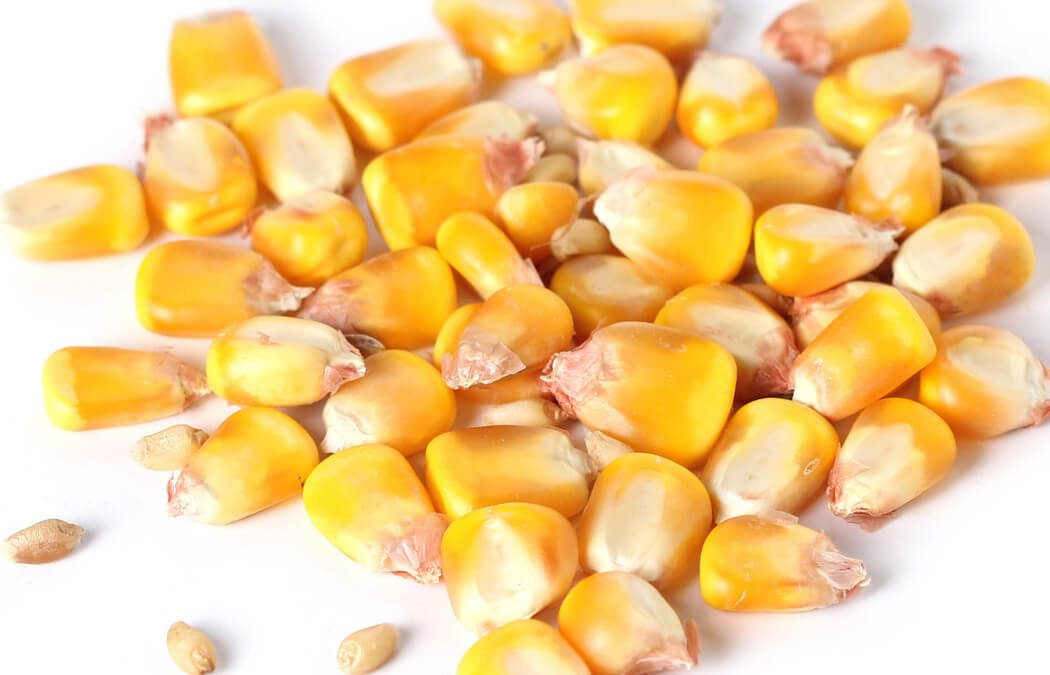corn: (546, 319, 735, 474), (301, 444, 445, 583), (789, 286, 936, 421), (579, 450, 711, 598), (165, 402, 322, 524), (594, 176, 754, 291), (443, 499, 577, 628), (207, 314, 369, 419), (700, 516, 872, 608)
